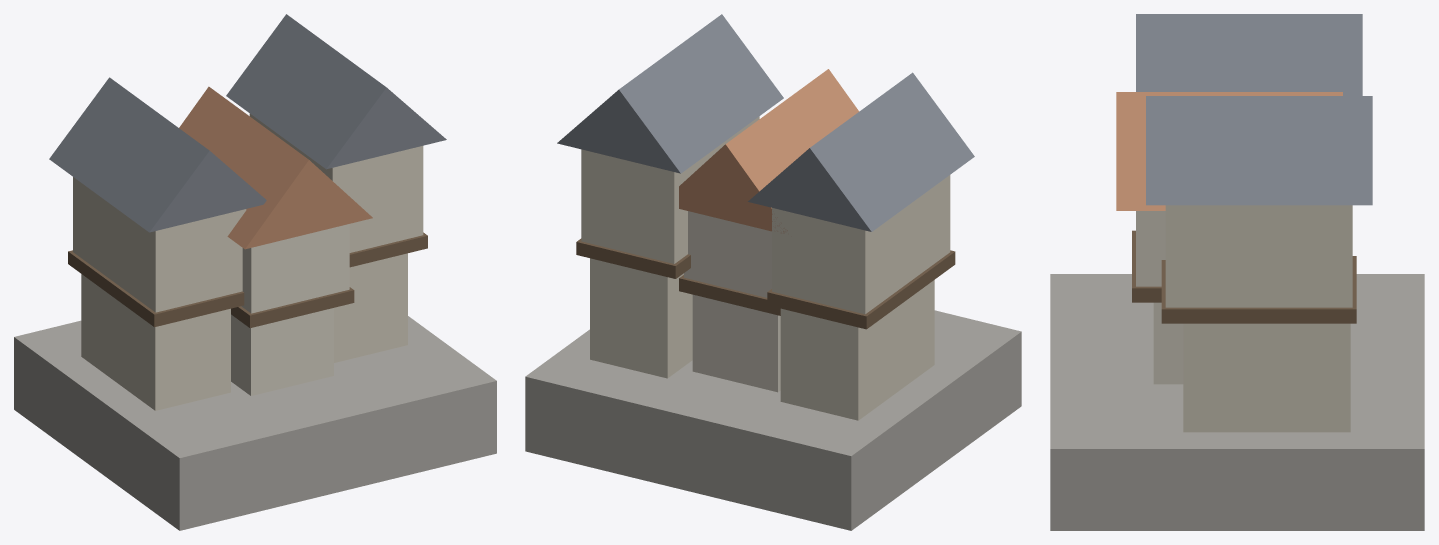
Rendered from house-medieval-2.glb.
The picture shows the model from 3 angles, left to right: view 1: azimuth 30°, elevation 25°; view 2: azimuth 150°, elevation 25°; view 3: azimuth 270°, elevation 25°; orthographic projection. The views are drawn at different scales.
Parts seen in each view (by area): view 1: LOD0; view 2: LOD0; view 3: LOD0.
Part boxes in pixels (x1,y1,x2,y2): LOD0: (14,14,496,530); LOD0: (525,14,1021,530); LOD0: (1050,14,1424,530).
Size of what is drawn, in the model's own units: 0.21 by 0.2225 by 0.19.
